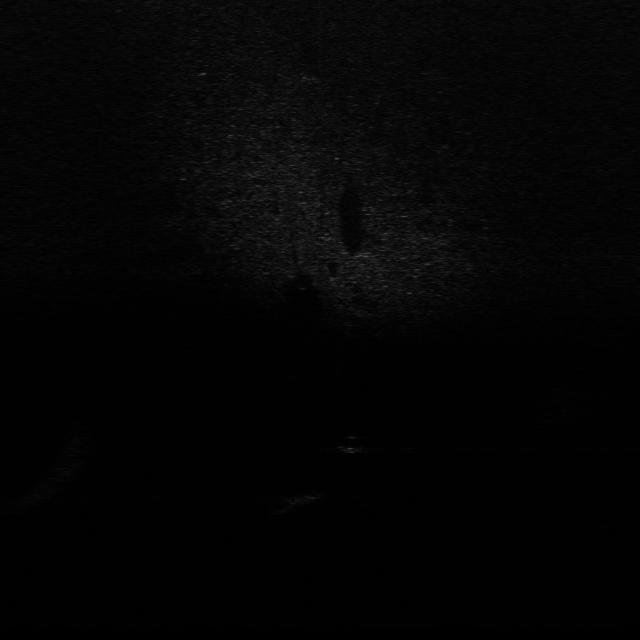ball: (338, 431, 367, 455)
square cage: (280, 482, 330, 512)
